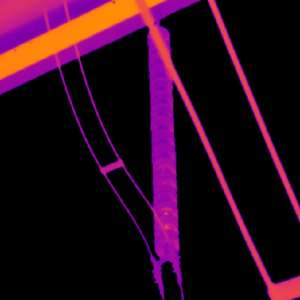insulator: (145, 21, 181, 258)
